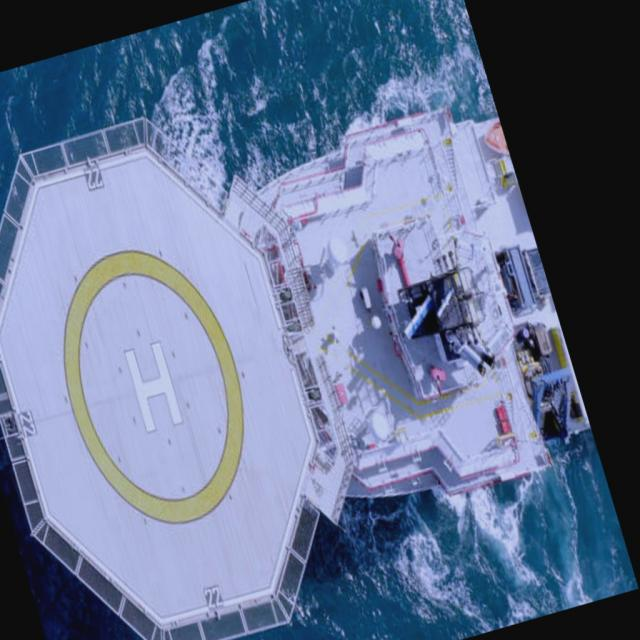helipad: (56, 245, 248, 527)
